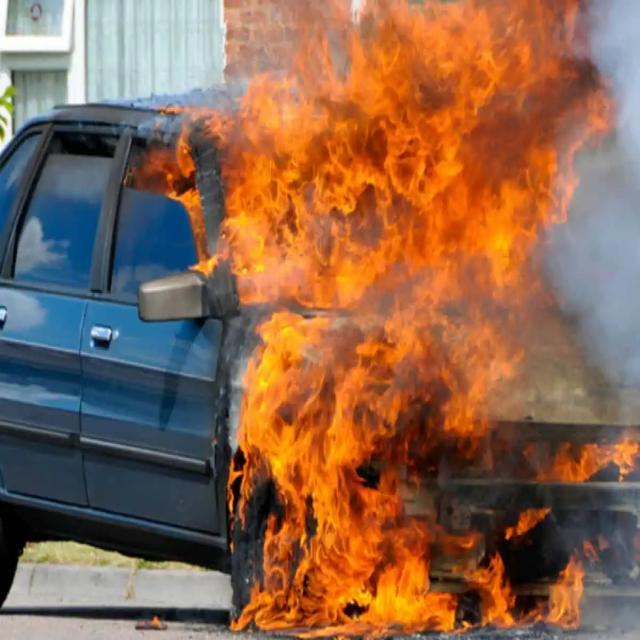fire: (223, 0, 616, 640), (122, 105, 222, 280), (616, 429, 640, 483)
